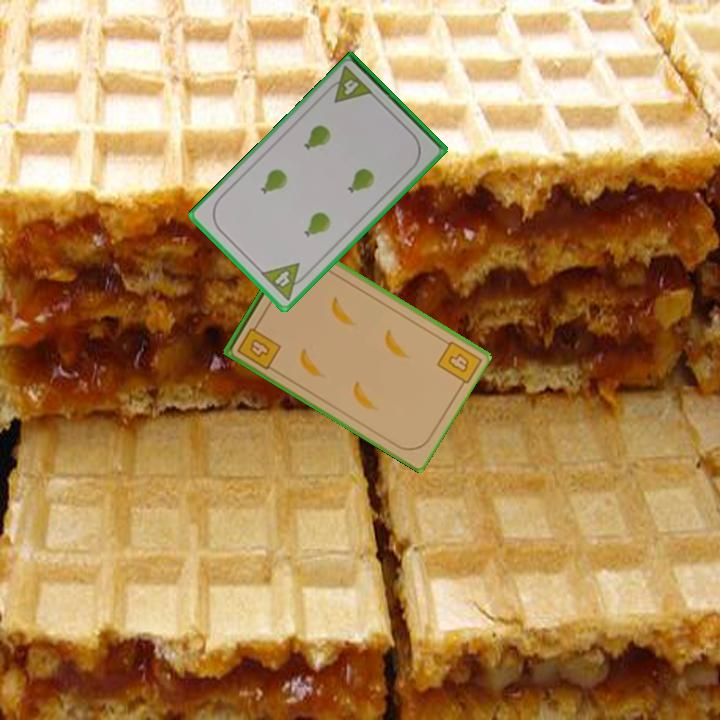4b: (234, 318, 283, 372), (445, 349, 473, 376)
4p: (257, 259, 312, 303), (322, 63, 376, 106)
